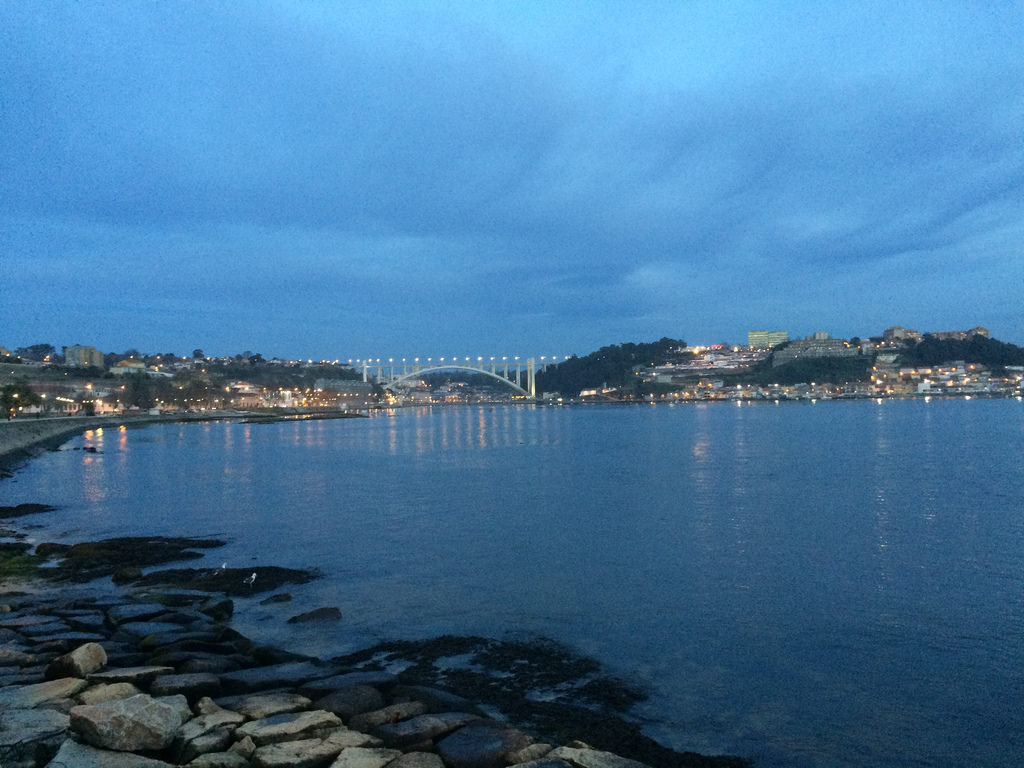arrabida: (334, 358, 541, 399)
